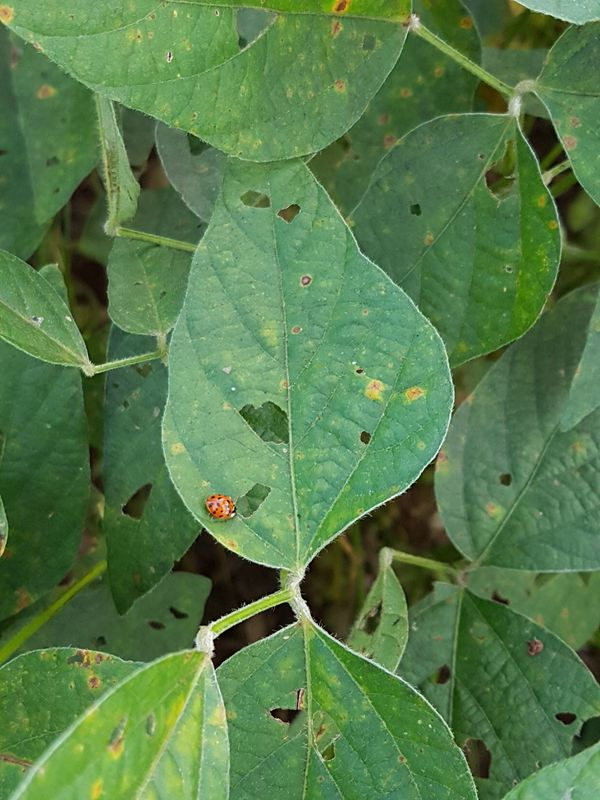Coccinellidae: (196, 486, 244, 530)
